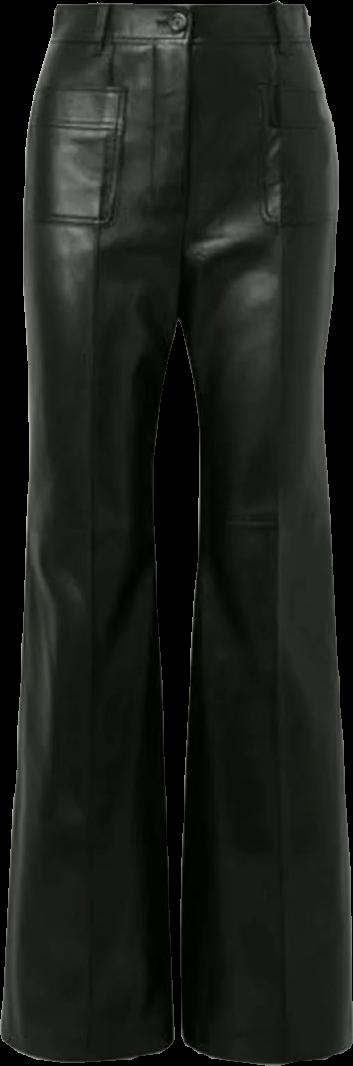Hemline: (0, 1028, 181, 1064), (178, 1033, 352, 1065)
Pantleg: (0, 1, 187, 1063), (174, 2, 352, 1063)
Waistline: (54, 30, 314, 49), (50, 0, 309, 19)
